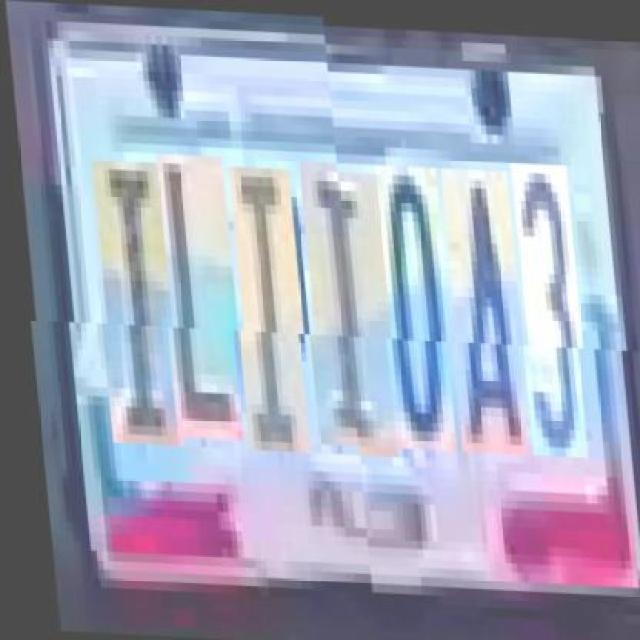3: (508, 157, 584, 452)
a: (438, 163, 525, 449)
i: (295, 166, 394, 454), (89, 168, 182, 454), (226, 173, 306, 459)
l: (154, 161, 241, 447)
o: (372, 161, 454, 447)
